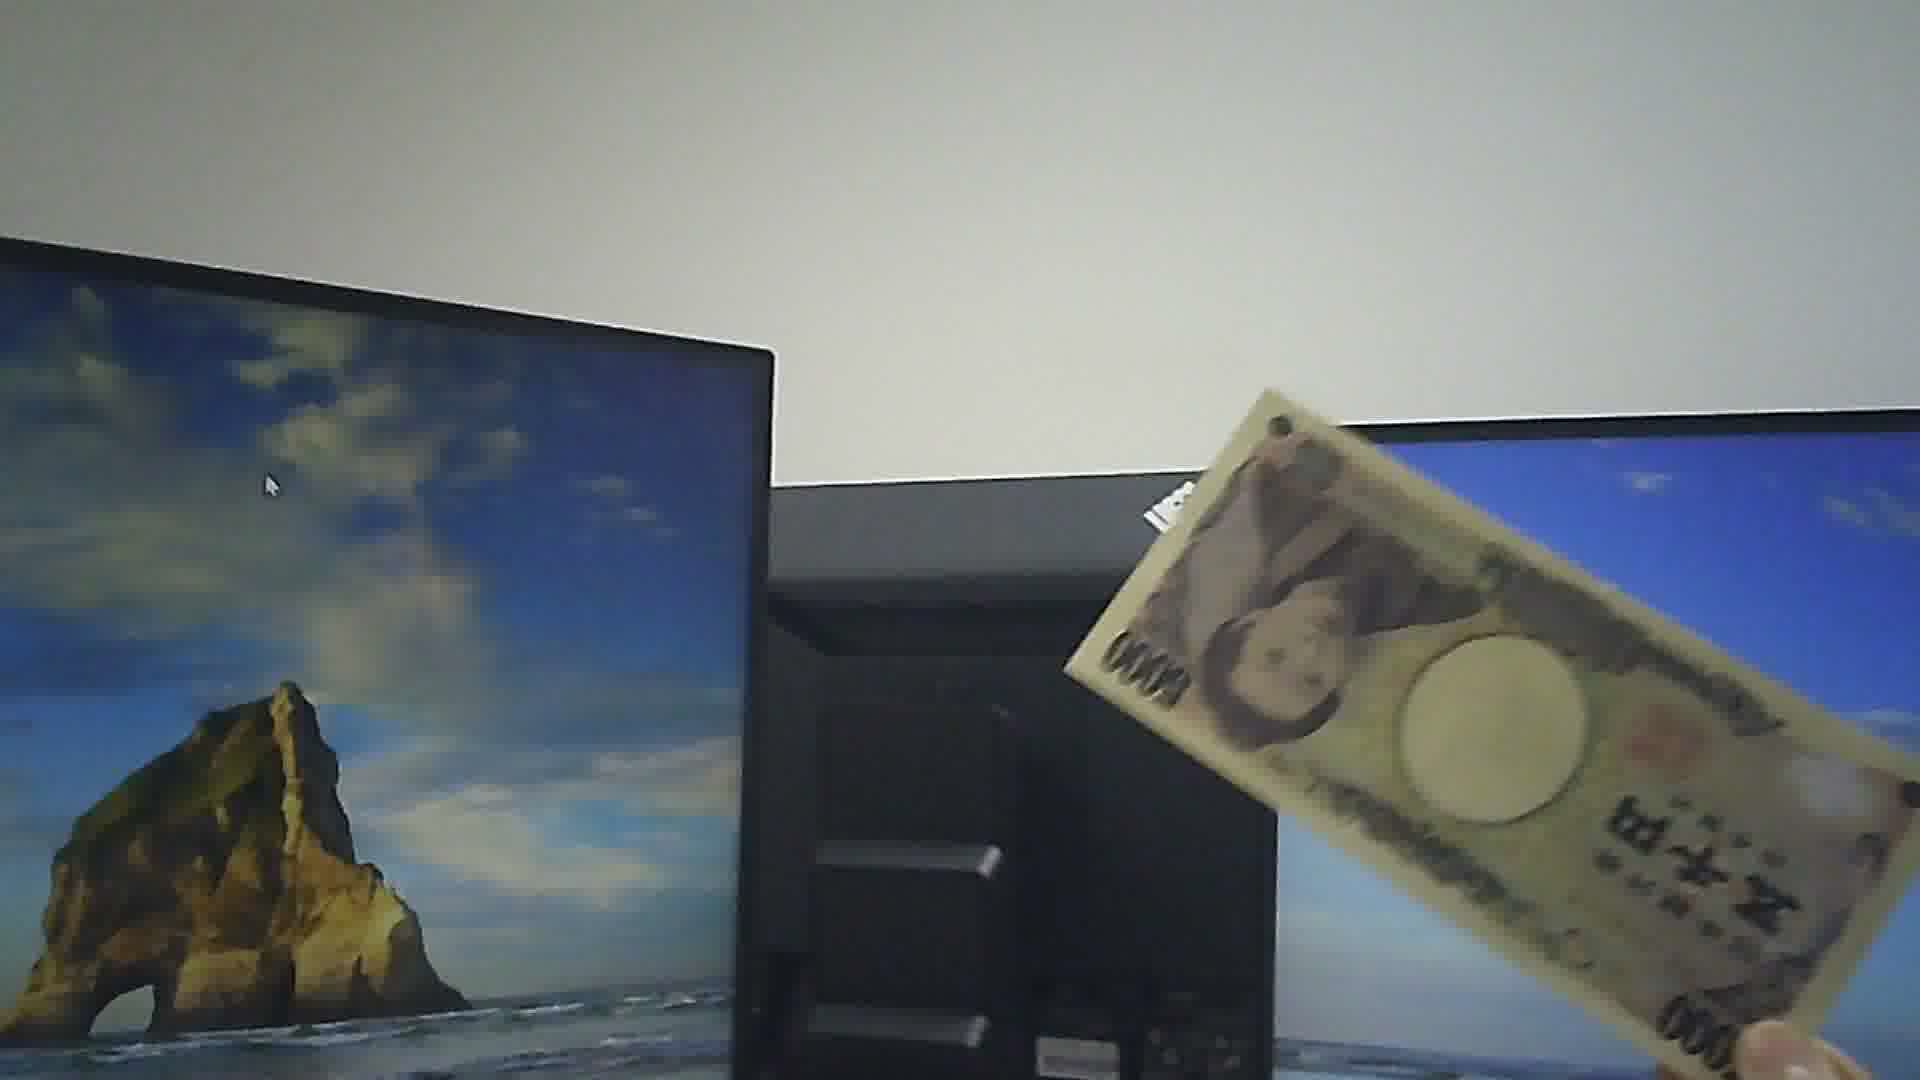5,000 Yen: (1073, 382, 1905, 1079)
